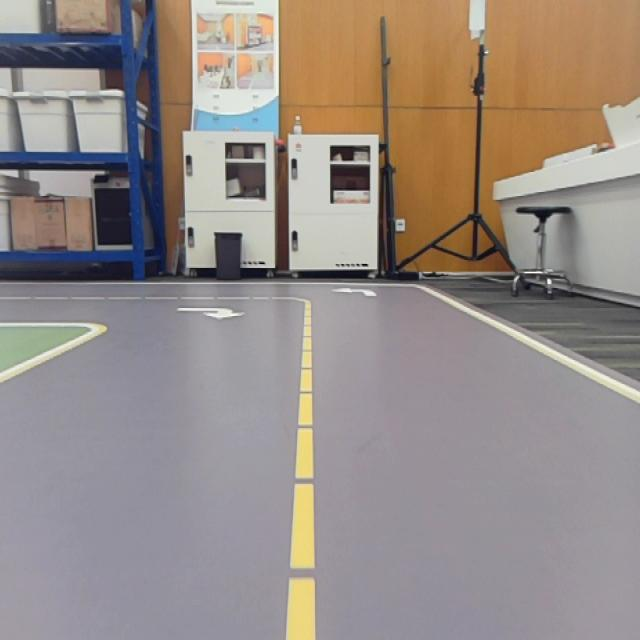left_lane: (285, 300, 317, 640)
right_lane: (419, 287, 640, 403), (0, 326, 104, 384)
